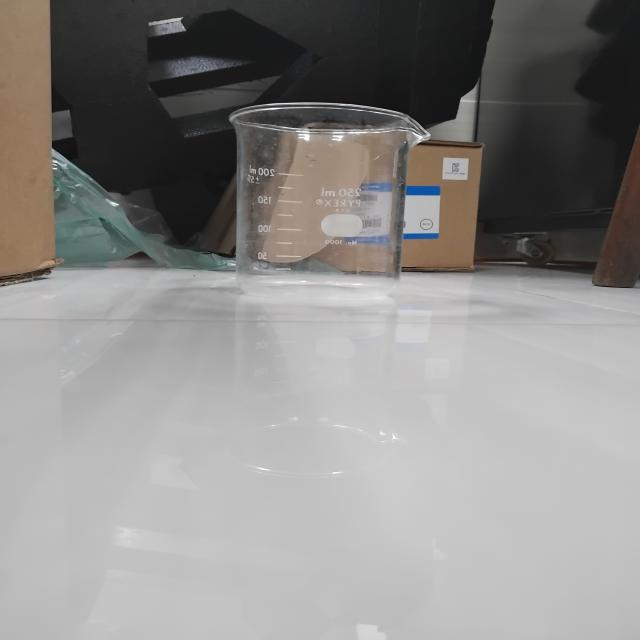Beaker: (192, 75, 477, 340)
